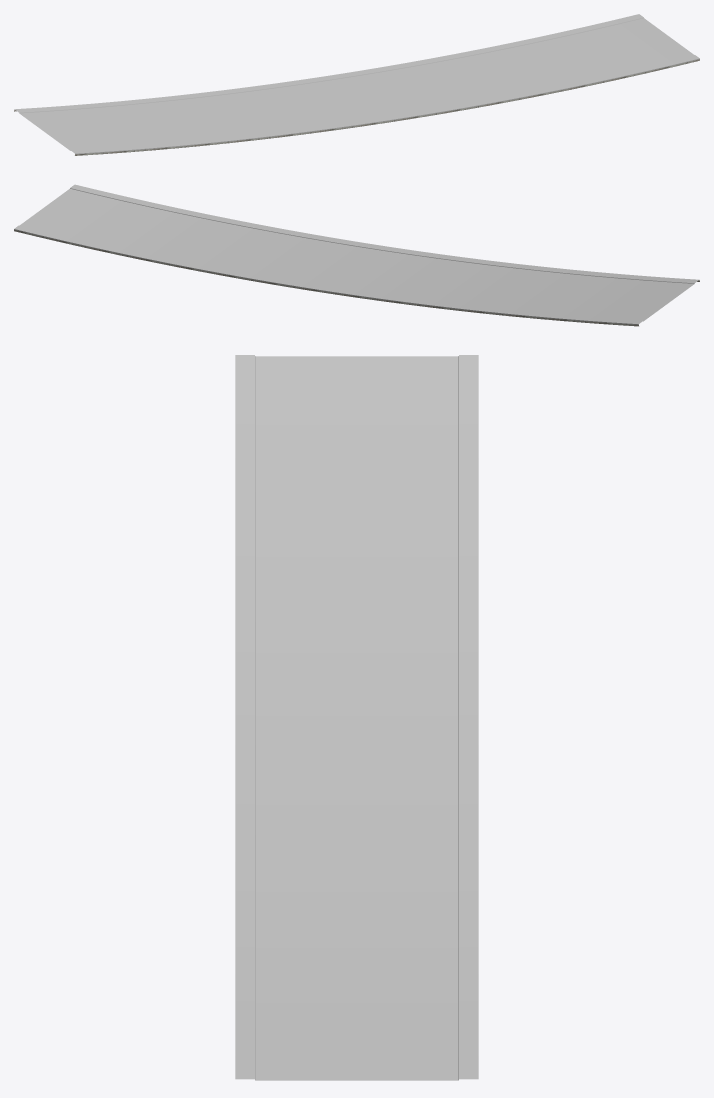
Rendered from Big_Road_UP_10.FBX.
3 renders of one model, top to bottom at view 1: azimuth 30°, elevation 25°; view 2: azimuth 150°, elevation 25°; view 3: azimuth 270°, elevation 25°, orthographic. The views are drawn at different scales.
Parts seen in each view (by area): view 1: Big_Road_up_10; view 2: Big_Road_up_10; view 3: Big_Road_up_10.
Part boxes in pixels (x1,y1,x2,y2): Big_Road_up_10: (14,14,699,155); Big_Road_up_10: (14,184,699,326); Big_Road_up_10: (235,355,478,1080).
Bounding box in the file's own units: 13474 × 1224 × 2268.
